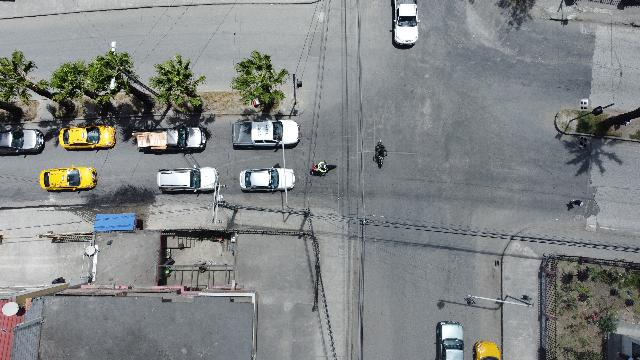Vehiculo: (132, 127, 206, 153), (233, 120, 301, 148), (158, 167, 218, 193), (60, 124, 116, 150), (40, 166, 96, 192), (239, 166, 295, 192), (390, 0, 420, 46), (0, 129, 46, 155), (436, 321, 464, 359), (473, 341, 501, 359)
